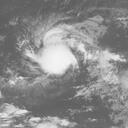cyclone: (38, 43, 74, 77)
